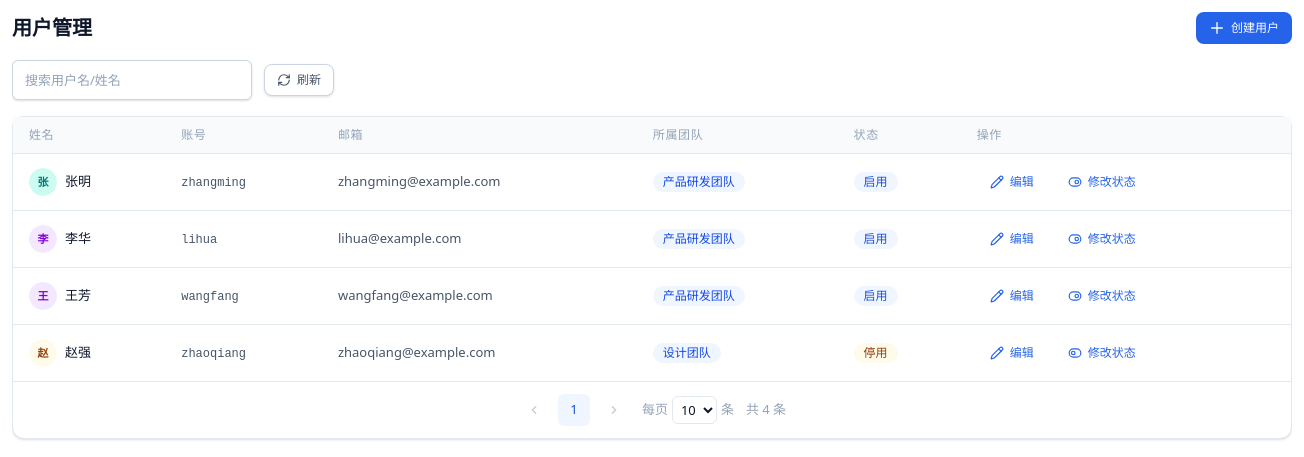
Test case: UserManagementPage › filters users by displayName search
expect the text "张明" is shown: met, box [65,172,91,192]
Type "王芳" into the field with placeholder "搜索用户名/姓名".
click(132, 80); type("王芳")  # box [12,60,252,100]
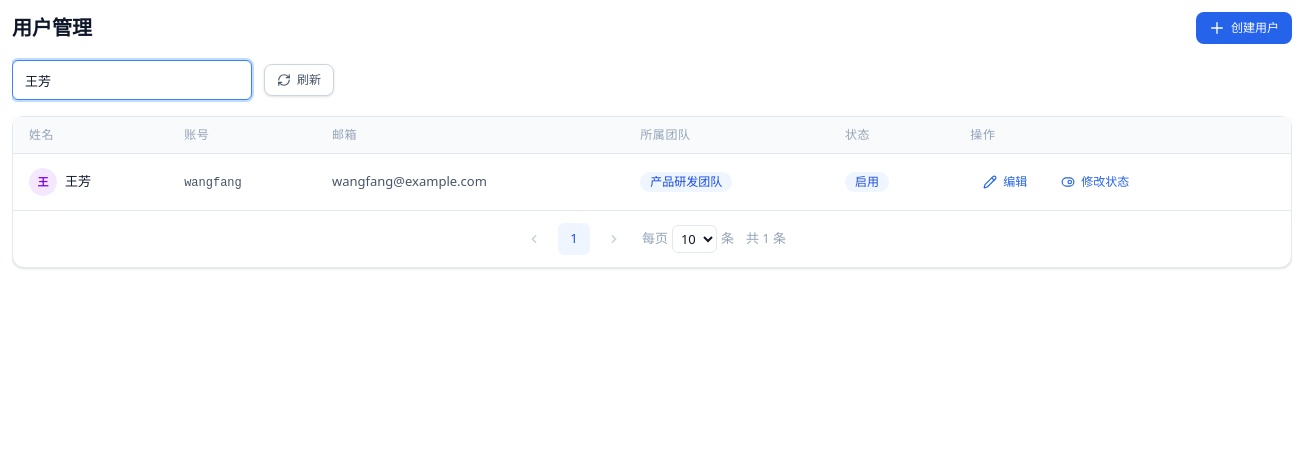
expect the text "王芳" is shown: met, box [65,172,91,192]
expect the text "张明" is gone: met
